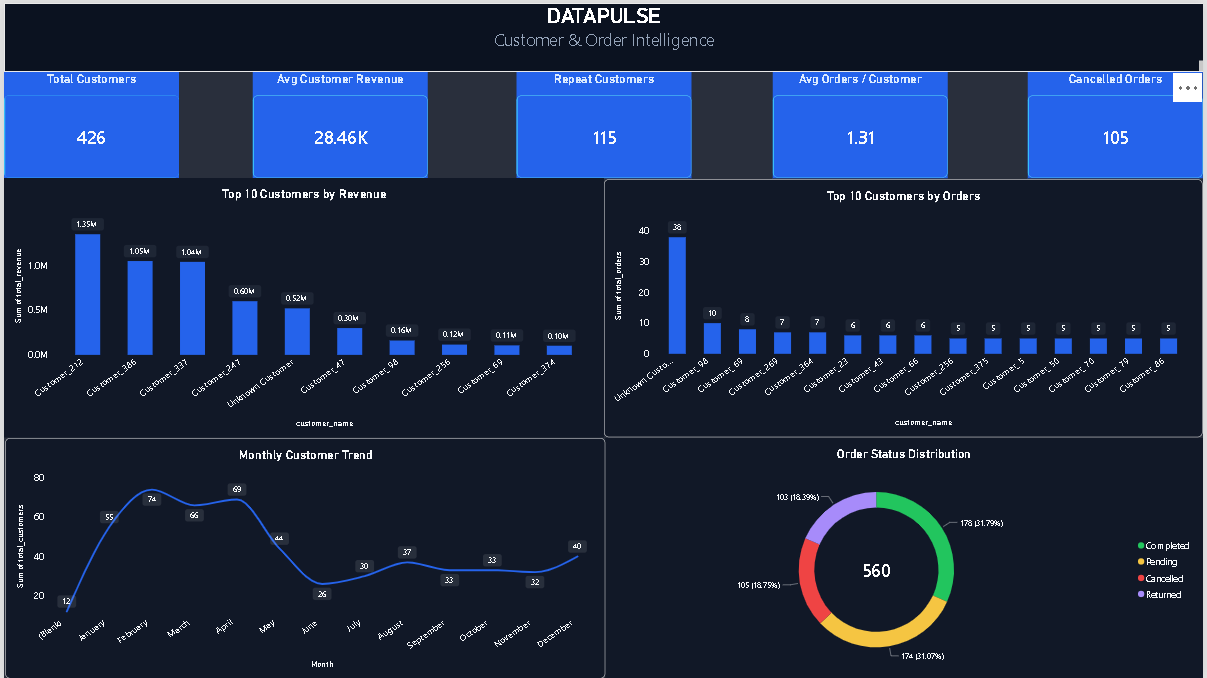

This screenshot's page, from the dashboard's own definition file:
{"tool":"powerbi","page":{"name":"Customer & Order Intelligence","canvas":[1920,1080],"ordinal":2},"visuals":[{"type":"cardVisual","title":"Total Customers","fields":{"Data":["Sum(public vw_overall_kpis.total_customers)"]},"box":[0,110,280,170],"z":0},{"type":"cardVisual","title":"Avg Customer Revenue","fields":{"Data":["public vw_order_status_summary.Avg Customer Revenue"]},"box":[397.5,110,280,170],"z":1},{"type":"cardVisual","title":"Repeat Customers","fields":{"Data":["public vw_customer_performance.Repeat Customers"]},"box":[820,110,280,170],"z":2},{"type":"cardVisual","title":"Avg Orders / Customer","fields":{"Data":["public vw_customer_performance.Avg Orders per Customer"]},"box":[1230,110,280,170],"z":3},{"type":"cardVisual","title":"Cancelled Orders","fields":{"Data":["public vw_order_status_summary.Cancelled Orders"]},"box":[1637.5,110,280,170],"z":4},{"type":"clusteredColumnChart","title":"Top 10 Customers by Revenue","fields":{"Category":["public vw_customer_performance.customer_name"],"Y":["Sum(public vw_customer_performance.total_revenue)"]},"box":[0,280,960,415],"z":5},{"type":"clusteredColumnChart","title":"Top 10 Customers by Orders","fields":{"Category":["public vw_customer_performance.customer_name"],"Y":["Sum(public vw_customer_performance.total_orders)"]},"box":[960,282.5,957.5,412.5],"z":6},{"type":"donutChart","title":"Order Status Distribution","fields":{"Category":["public vw_order_status_summary.order_status"],"Y":["Sum(public vw_order_status_summary.total_orders)"]},"box":[962.5,695,957.5,385],"z":7},{"type":"lineChart","title":"Monthly Customer Trend","fields":{"Category":["public vw_monthly_performance.month.Variation.Date Hierarchy.Month"],"Y":["Sum(public vw_monthly_performance.total_customers)"]},"box":[2.5,695,960,385],"z":8},{"type":"textbox","title":"DATAPULSE","box":[0,0,1920,110],"z":9}]}

Visuals, with their boxes in screenshot pixels (x1, y1, x2, y2), scaled from the page's 1920x1080 canvas onto the 1207x678 screenshot:
"Total Customers" cardVisual: 0, 69, 176, 176
"Avg Customer Revenue" cardVisual: 250, 69, 426, 176
"Repeat Customers" cardVisual: 515, 69, 692, 176
"Avg Orders / Customer" cardVisual: 773, 69, 949, 176
"Cancelled Orders" cardVisual: 1029, 69, 1205, 176
"Top 10 Customers by Revenue" clusteredColumnChart: 0, 176, 604, 436
"Top 10 Customers by Orders" clusteredColumnChart: 604, 177, 1205, 436
"Order Status Distribution" donutChart: 605, 436, 1206, 677
"Monthly Customer Trend" lineChart: 2, 436, 605, 677
"DATAPULSE" textbox: 0, 0, 1206, 69
